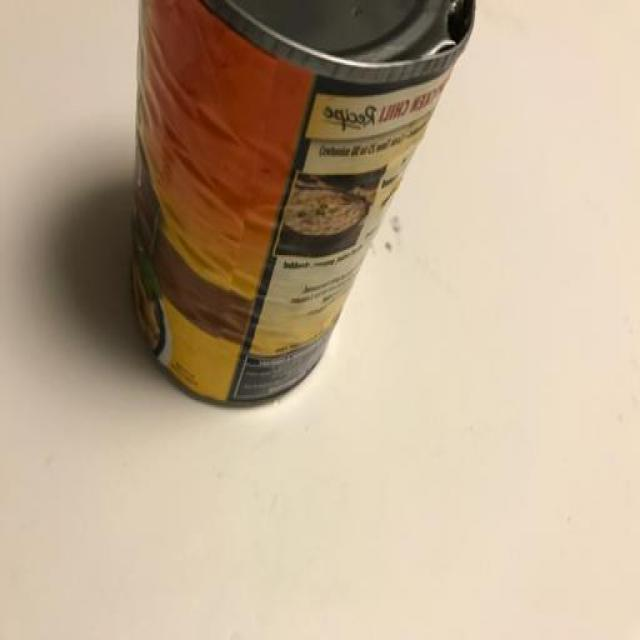metal: (120, 0, 480, 413)
